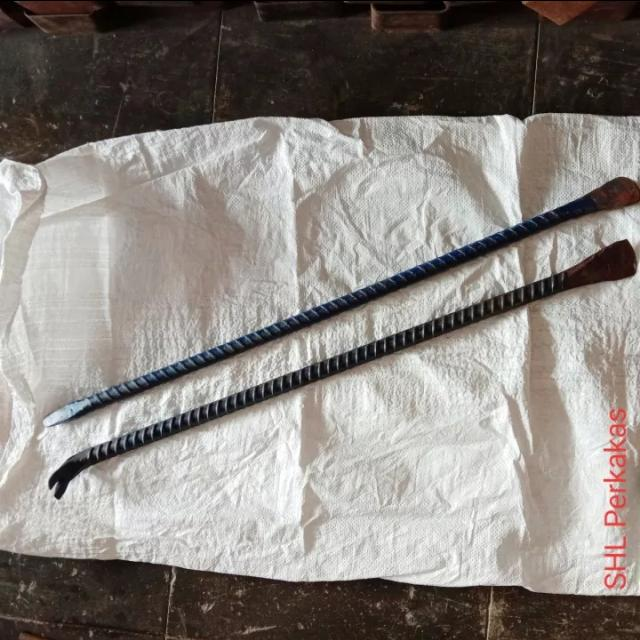Linggis: (49, 241, 634, 499)
